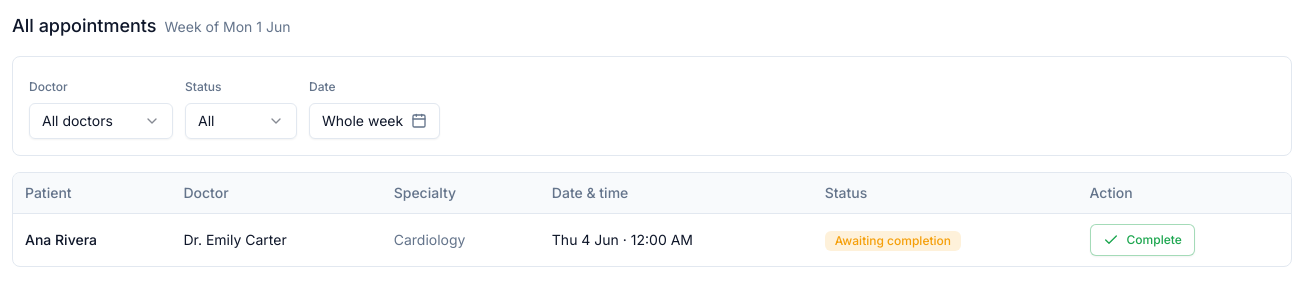
Test: AppointmentsPage › marks a confirmed appointment complete via the store action
Click the button "Complete" at (1142, 240), box [1090,224,1195,256]
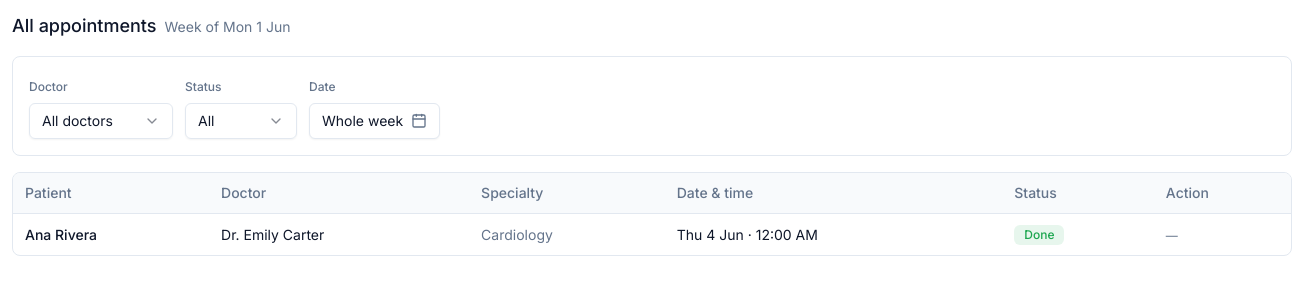
Result: the button "Complete" is gone
